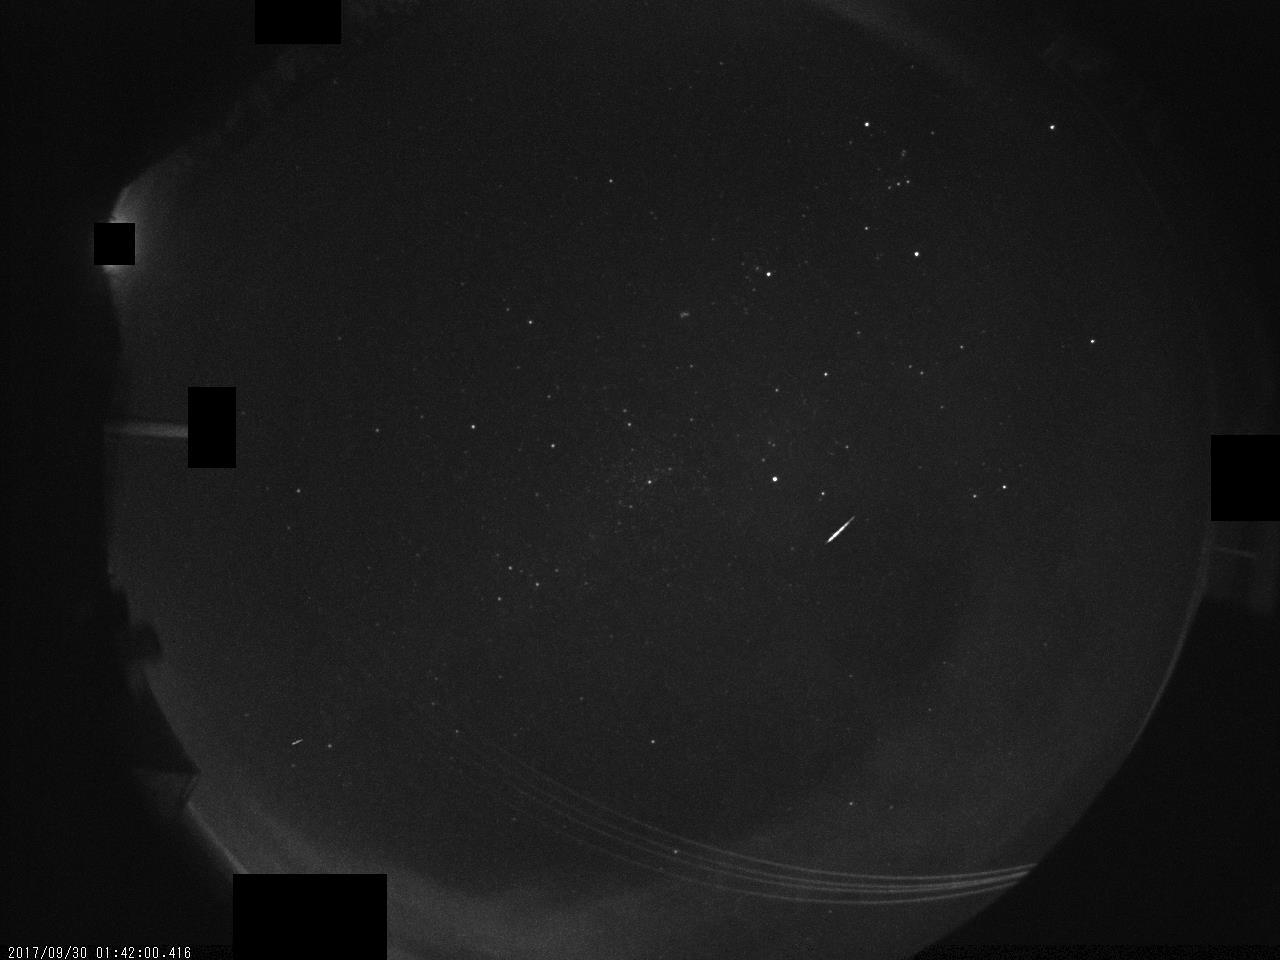TLE: (278, 720, 308, 751)
